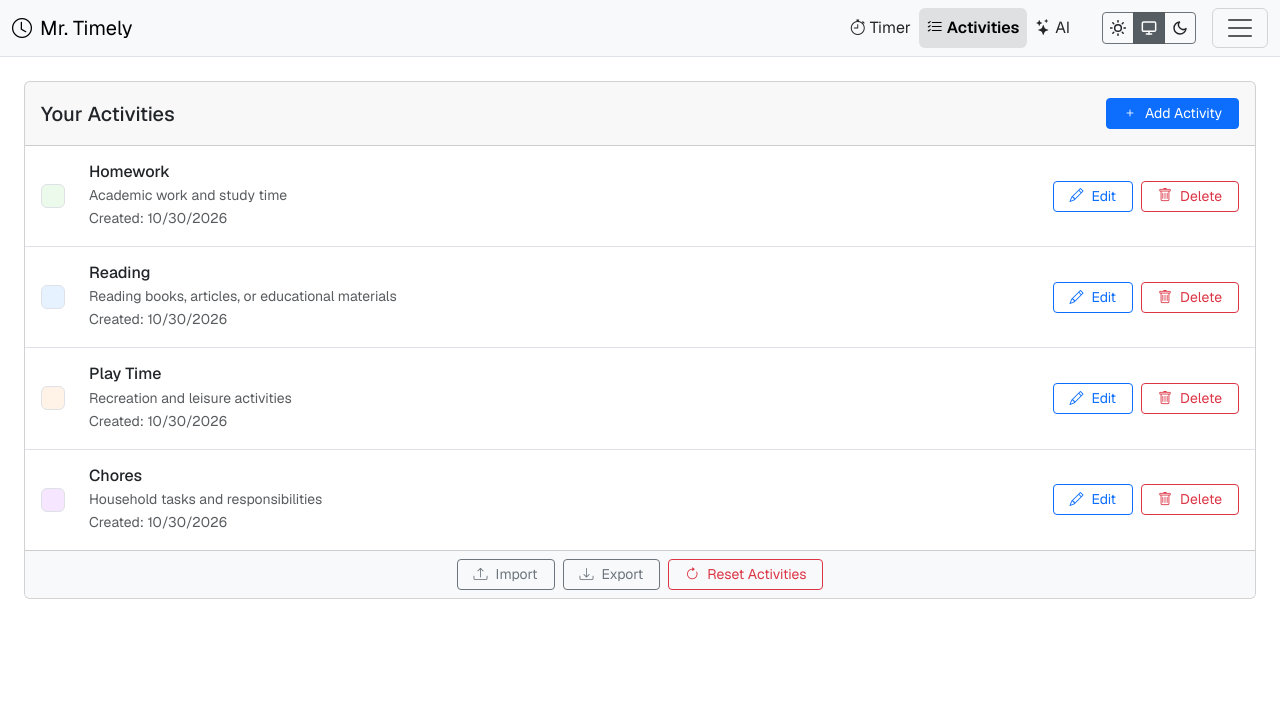
Activity CRUD Operations › Import/Export Workflows › should complete export workflow
This screenshot has width=1280, height=720.
Click the button "Add Activity": (1173, 114) [1106,98,1239,129]
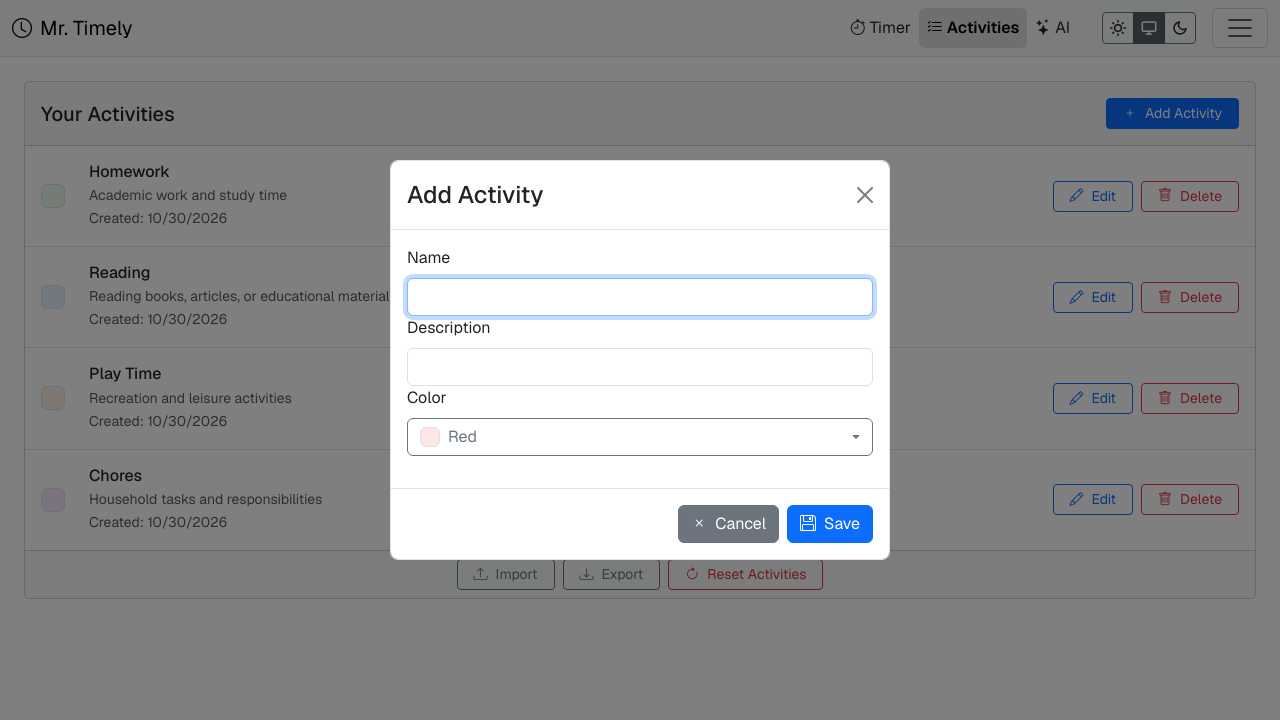
In the field labelled "Name": (640, 297) [407,278,873,316], type "Export Test Activity"
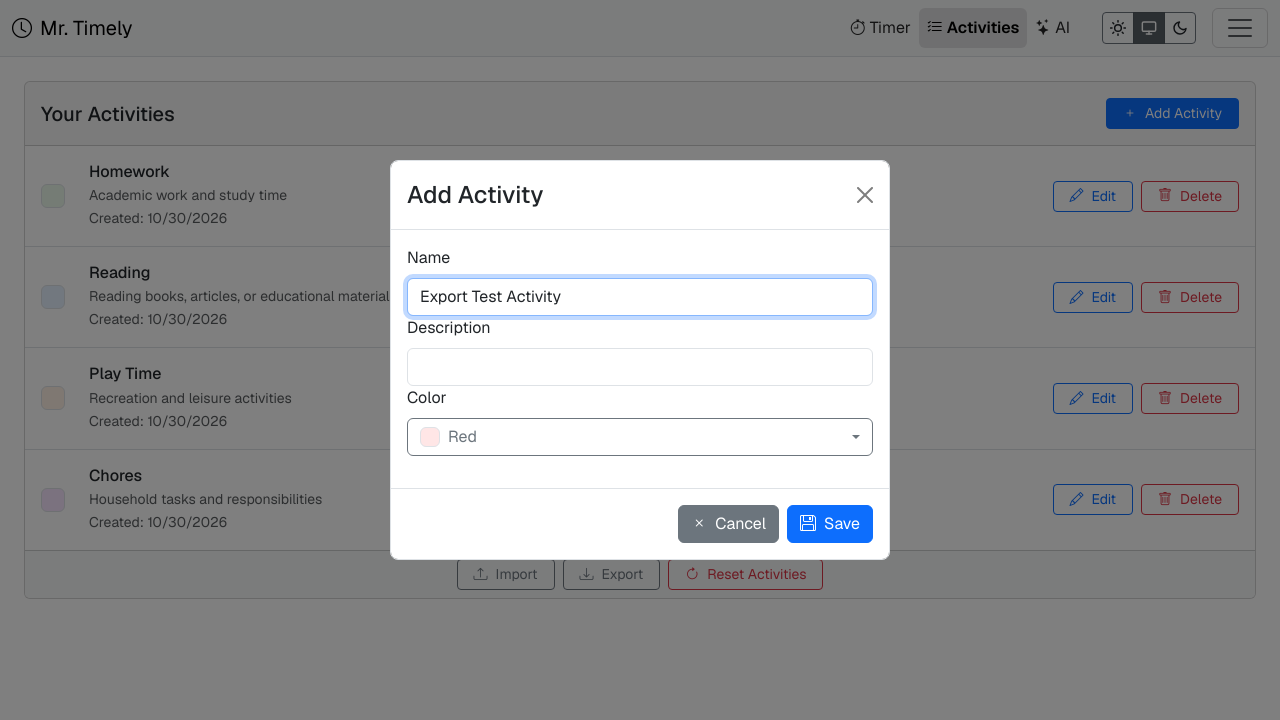
Click the button "Save": (830, 524) [787,505,873,543]
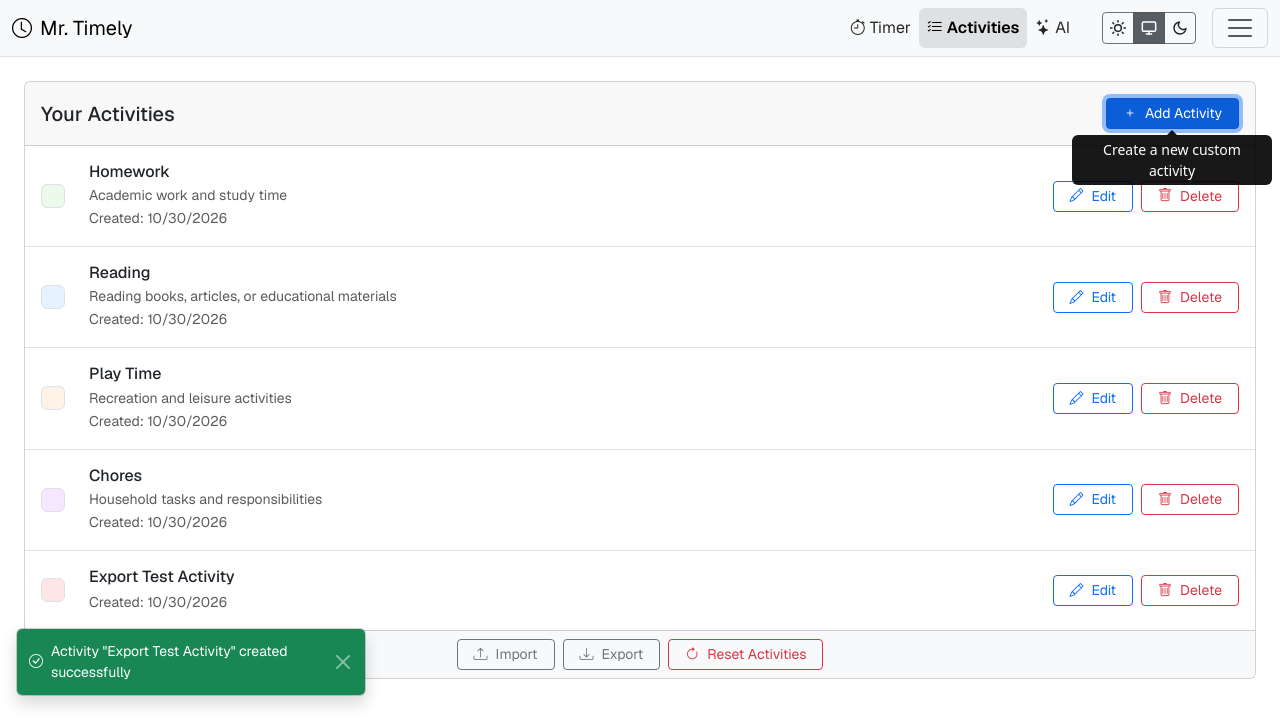
Expected: the dialog is gone
Expected: the message "Activity \"Export Test Activity\" created successfully" is shown, [16,628,366,696]
Expected: the text with test id "toast-message" shows "created successfully", [51,642,288,681]
Click the button "Export": (612, 655) [563,639,661,670]
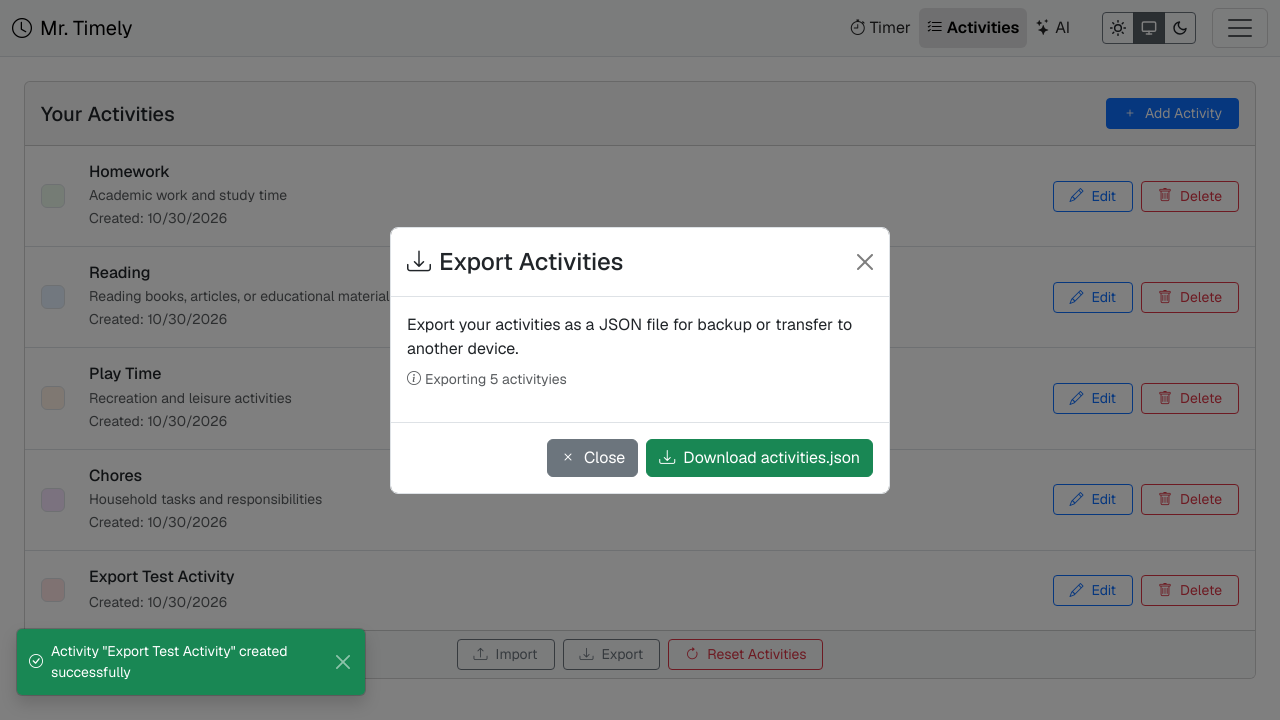
Expected: the dialog is shown, [390,227,890,494]
Expected: the text "Export Activities" is shown, [407,244,623,280]
Expected: the link "Download activities.json" is shown, [646,438,873,476]
Click the button "Close": (593, 458) [547,439,638,477]
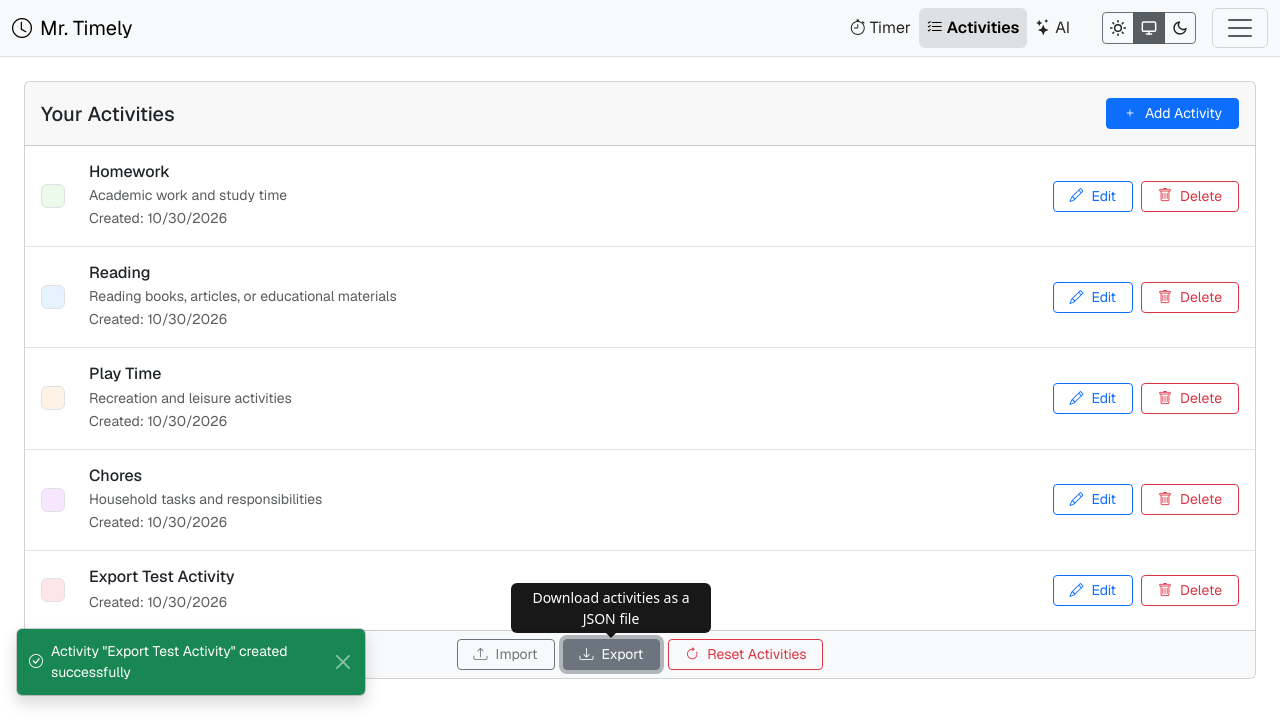
Expected: the dialog is gone
